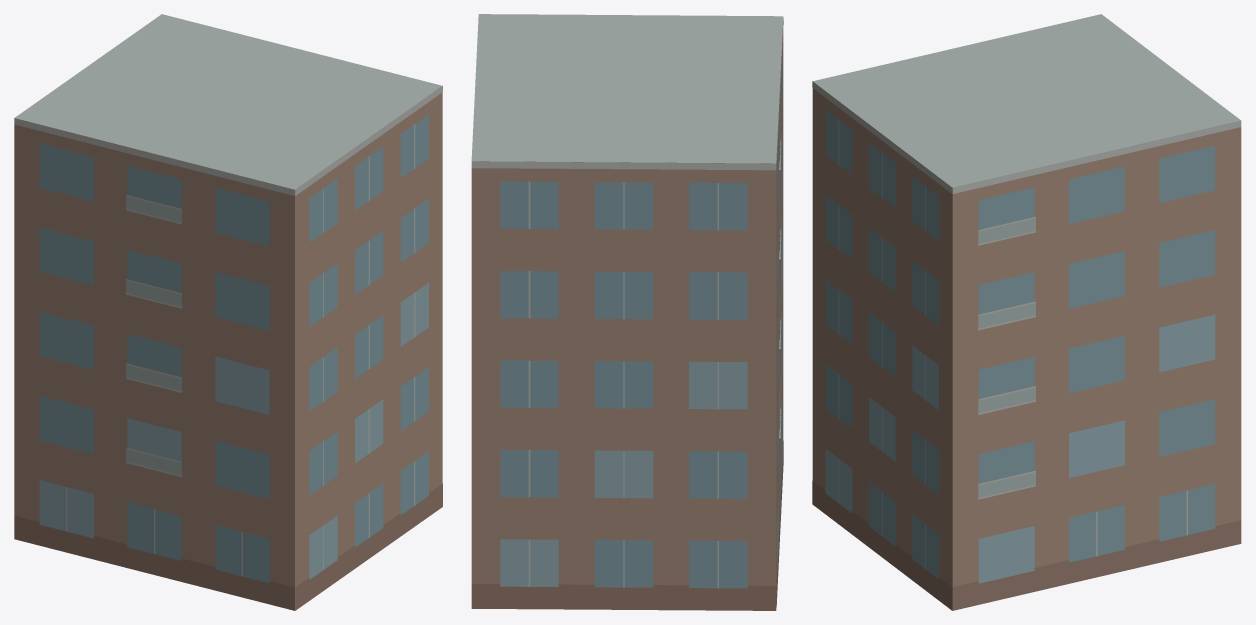
The model's file is survey-upis-32664544.glb.
3 views of the same model, side by side, from view 1: azimuth 30°, elevation 25°; view 2: azimuth 150°, elevation 25°; view 3: azimuth 270°, elevation 25° (orthographic). The views are drawn at different scales.
Parts seen in each view (by area): view 1: survey-upis-32664544.tmp; view 2: survey-upis-32664544.tmp; view 3: survey-upis-32664544.tmp.
Part boxes in pixels (x1,y1,x2,y2): survey-upis-32664544.tmp: [14, 14, 442, 610]; survey-upis-32664544.tmp: [471, 14, 783, 610]; survey-upis-32664544.tmp: [812, 14, 1241, 610].
Size of the model in its own units: 14.1 by 16 by 14.7.
